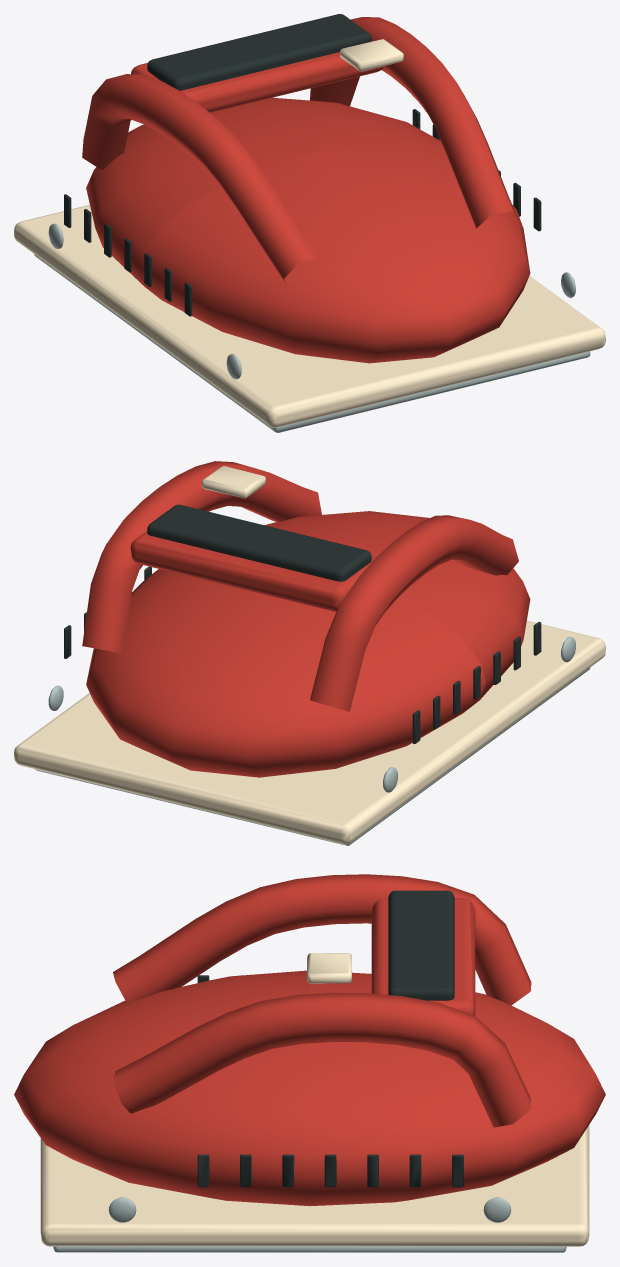
File: mixer-light.glb
The picture shows the model from 3 angles, top to bottom: view 1: azimuth 30°, elevation 25°; view 2: azimuth 150°, elevation 25°; view 3: azimuth 270°, elevation 25°; orthographic projection. The views are drawn at different scales.
Parts seen in each view (by area): view 1: red, ivory, dark, steel; view 2: red, ivory, dark, steel; view 3: red, ivory, dark, steel.
Part boxes in pixels (<box>): red: <box>82,17,530,363</box>; ivory: <box>14,39,605,427</box>; dark: <box>64,14,541,316</box>; steel: <box>34,223,590,432</box>; red: <box>82,461,530,777</box>; ivory: <box>14,466,605,844</box>; dark: <box>64,504,541,743</box>; steel: <box>35,637,590,845</box>; red: <box>14,874,605,1206</box>; ivory: <box>40,953,589,1246</box>; dark: <box>197,890,463,1187</box>; steel: <box>53,1197,566,1252</box>.
Bounding box in the file's own units: 0.434 × 0.286 × 0.6.
